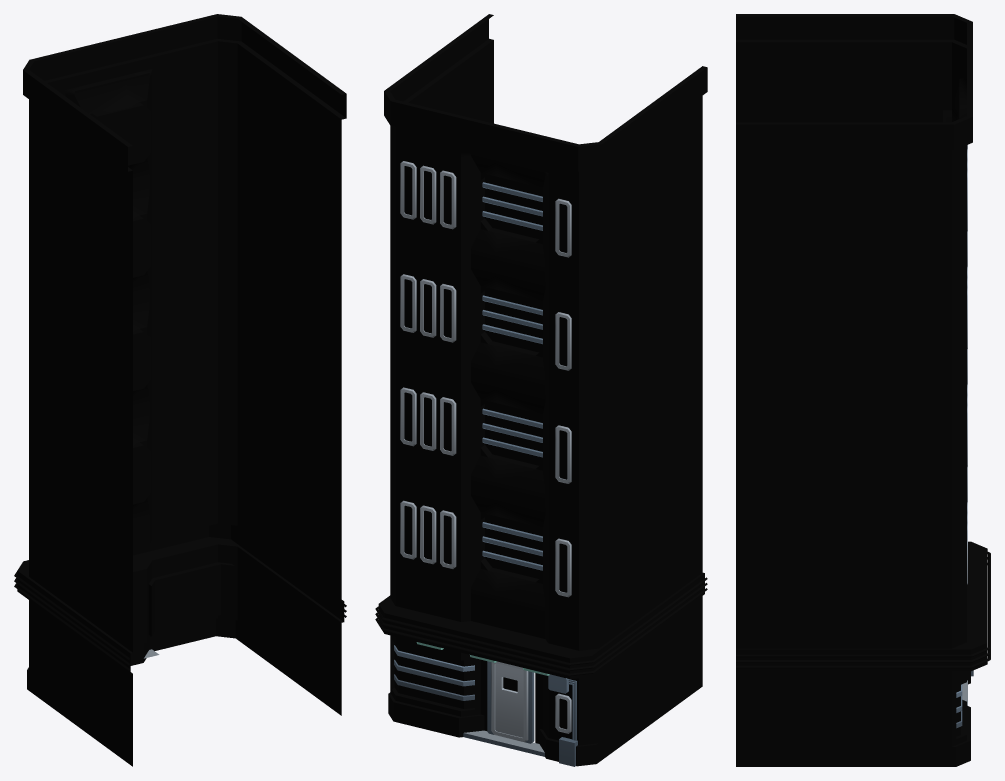
File: Ciudad_Edificio_02.FBX
3 views of the same model, side by side, from view 1: azimuth 30°, elevation 25°; view 2: azimuth 150°, elevation 25°; view 3: azimuth 270°, elevation 25° (orthographic). The views are drawn at different scales.
Visible parts, largest first — view 1: Ciudad_Edificio_02; view 2: Ciudad_Edificio_02; view 3: Ciudad_Edificio_02.
Part boxes in pixels (box(x1,y1,x2,y2)): Ciudad_Edificio_02: box(14, 14, 346, 766); Ciudad_Edificio_02: box(375, 14, 707, 766); Ciudad_Edificio_02: box(736, 14, 990, 766).
Bounding box in the file's own units: 879 × 853 × 2382.
